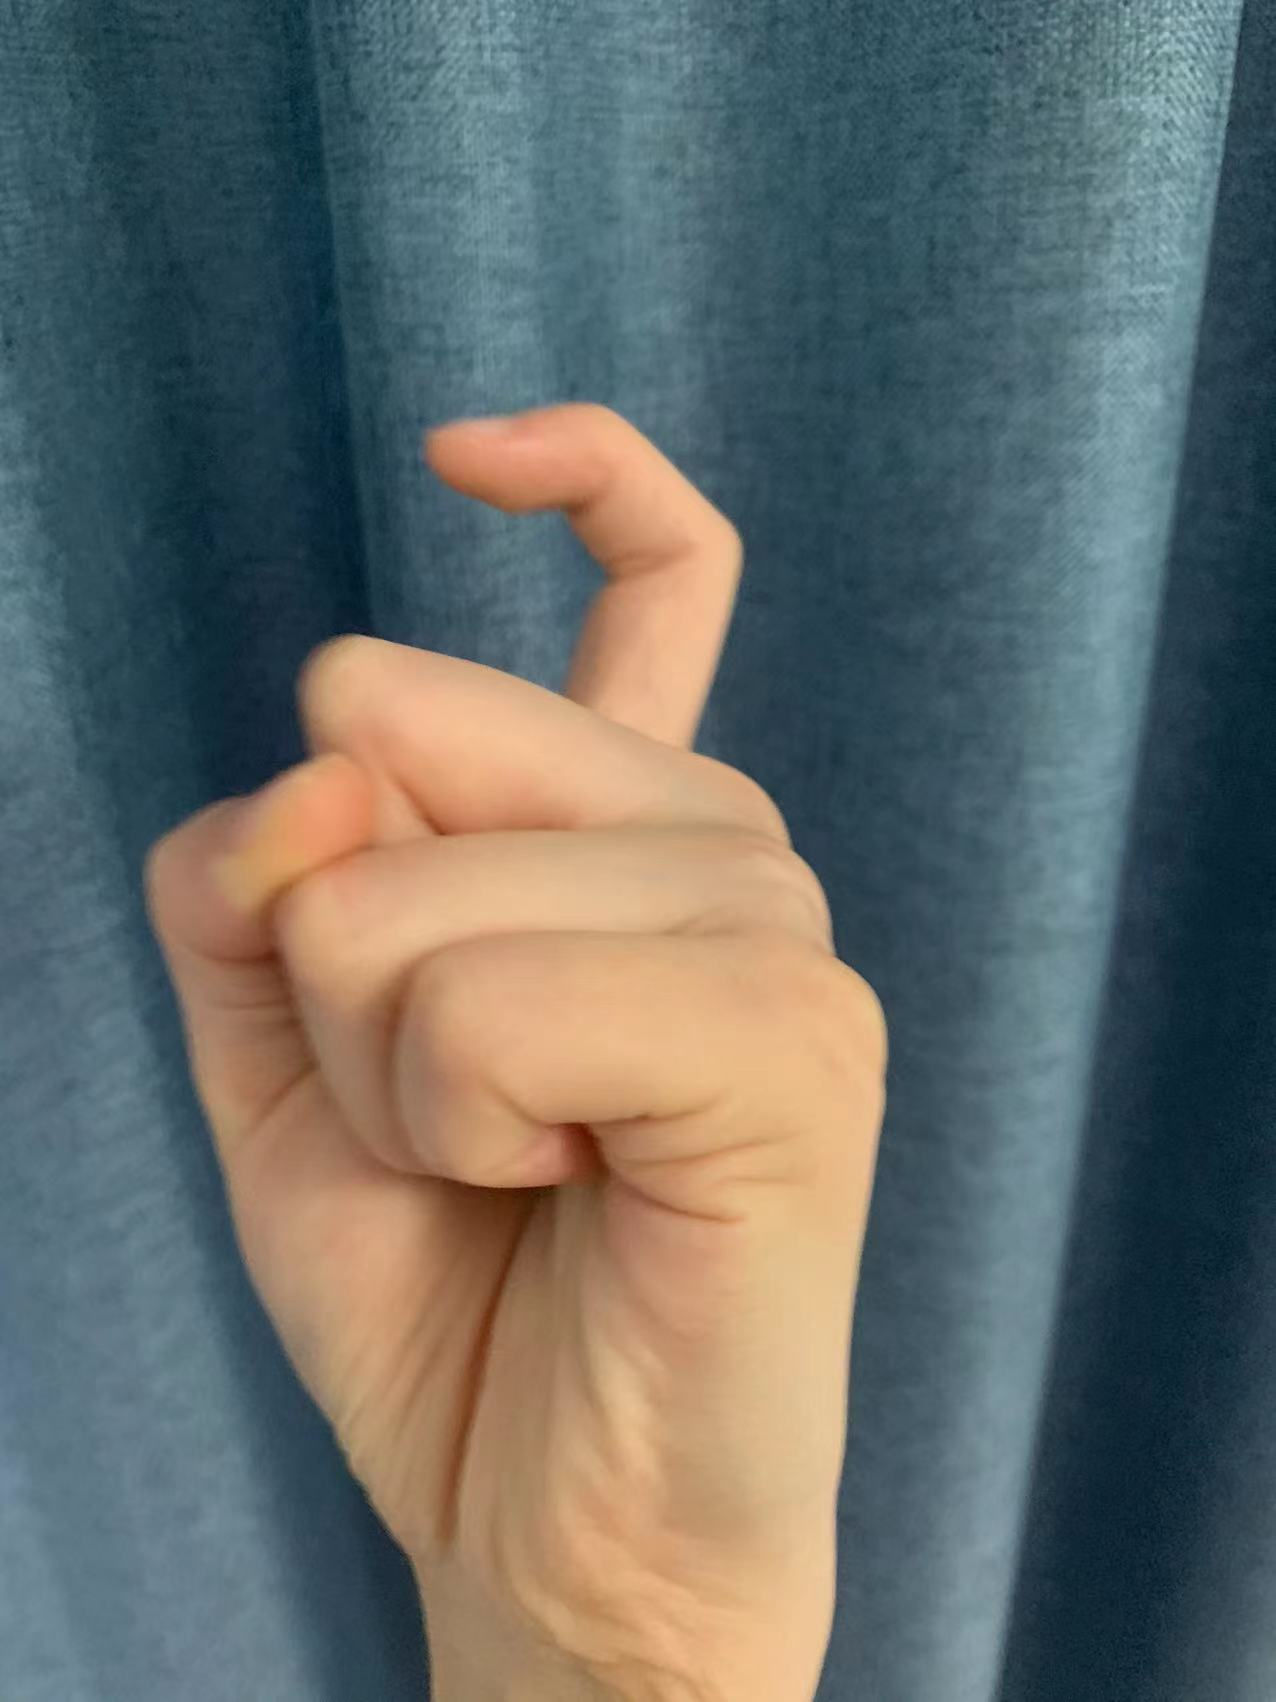anticlockwise: (149, 393, 905, 1567)
